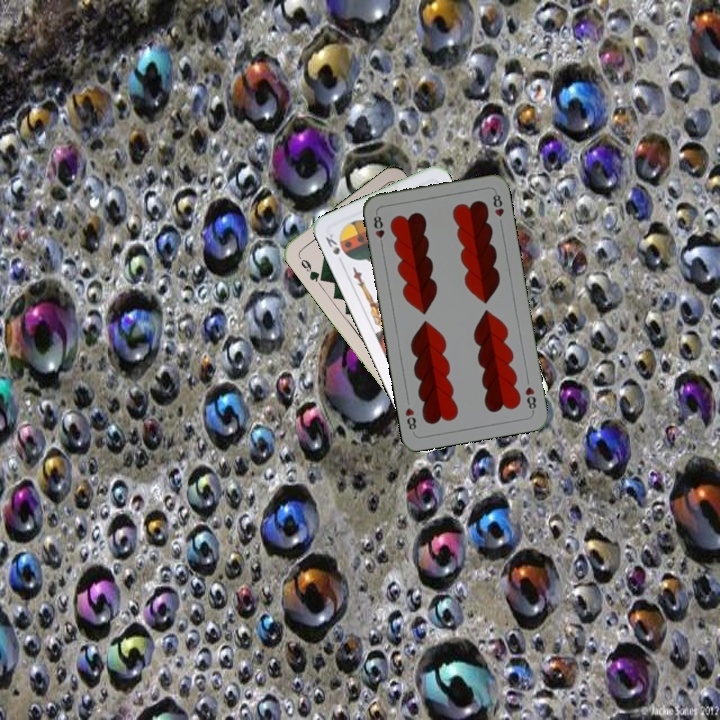G9: (294, 251, 326, 284)
H8: (370, 209, 387, 249), (521, 383, 539, 415)
SK: (321, 229, 343, 257)
